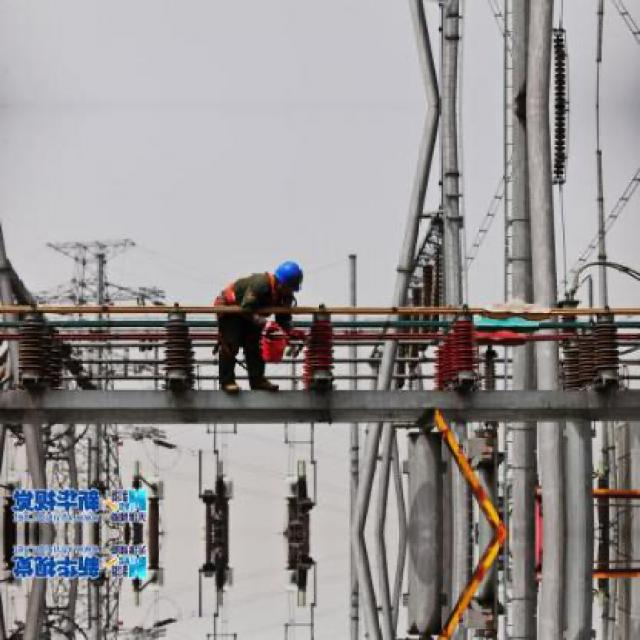helmet: (269, 258, 305, 298)
